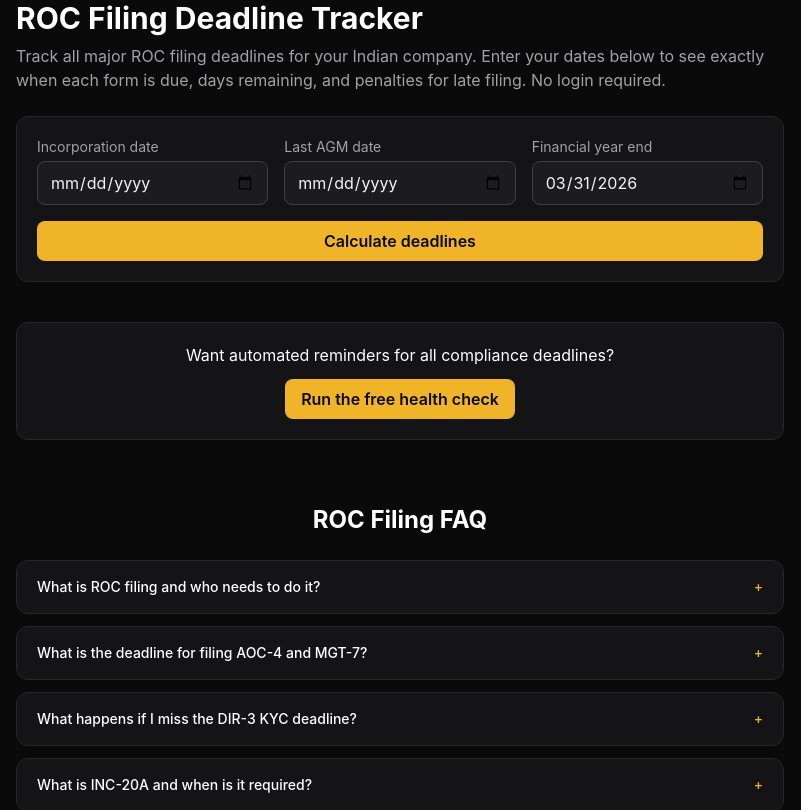
Scenario: RocFilingTracker › renders share buttons after calculation
In the date field labelled "Last AGM date": coordinates (400, 183) left=284, top=161, right=516, bottom=205, type "2026-09-30"
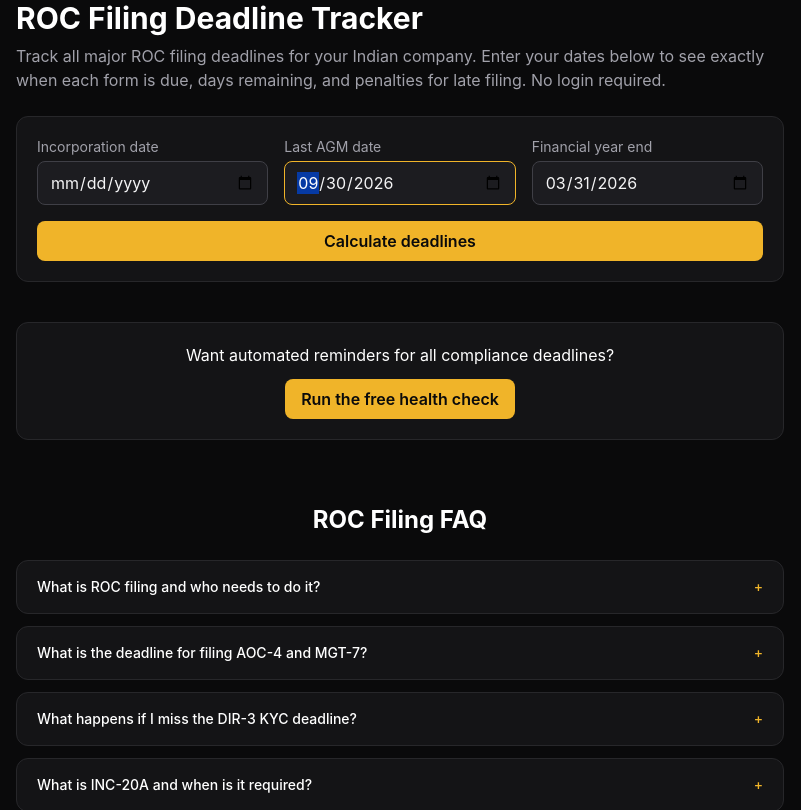
Click the button "Calculate deadlines": coordinates (400, 241) left=37, top=221, right=763, bottom=261
(page scrolled)
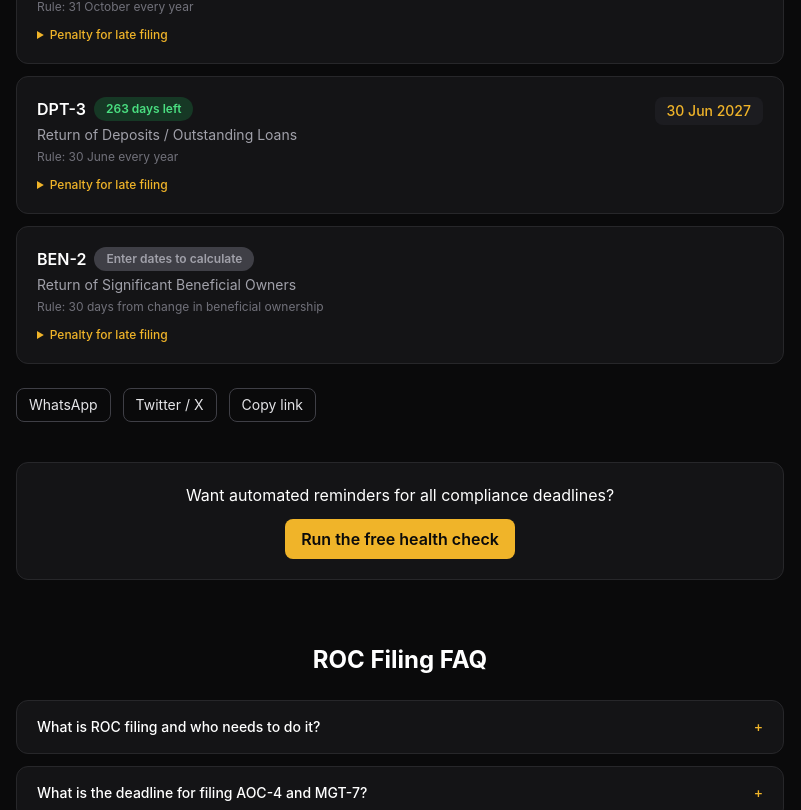
Expected: the link "WhatsApp" is shown, left=16, top=388, right=111, bottom=422
